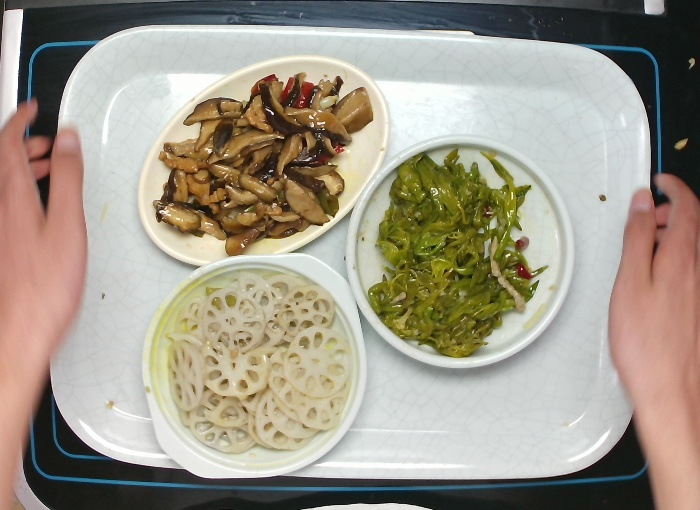JYsf-Shuang_Er_Pan: (145, 250, 374, 480)
JYsf-Tuo_Yuan_Wan: (138, 48, 395, 271)
JYsf-Xiao_Yuan_Pan: (345, 132, 583, 378)
